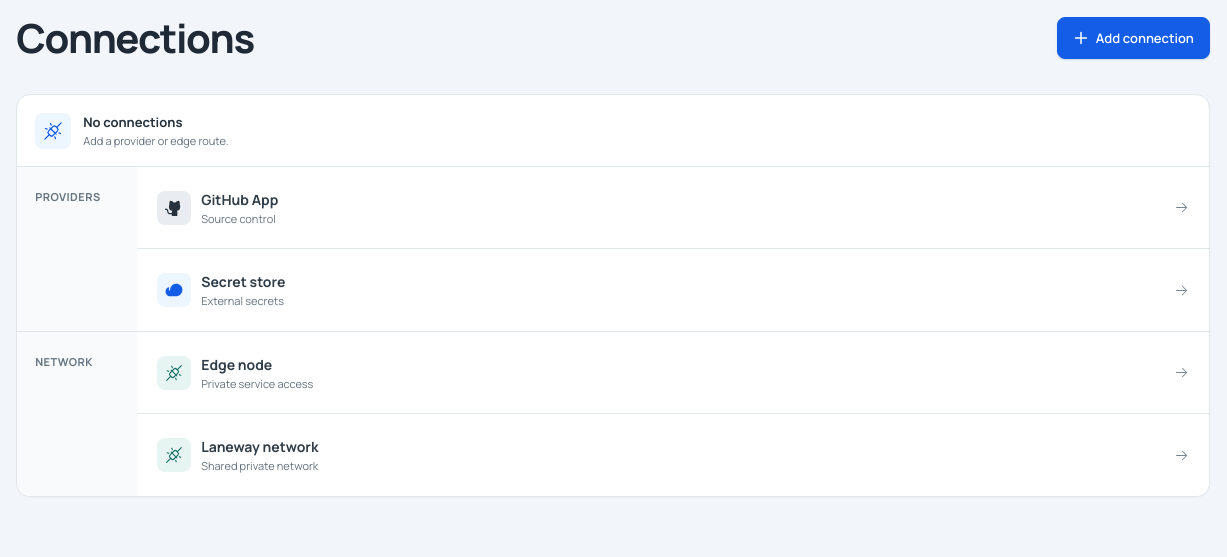
Test case: connections page › opens edge-node deployment from the network group
Step 1. Click the button "Edge node Private service access" → (174, 372), box x1=137 y1=332 x2=1209 y2=414
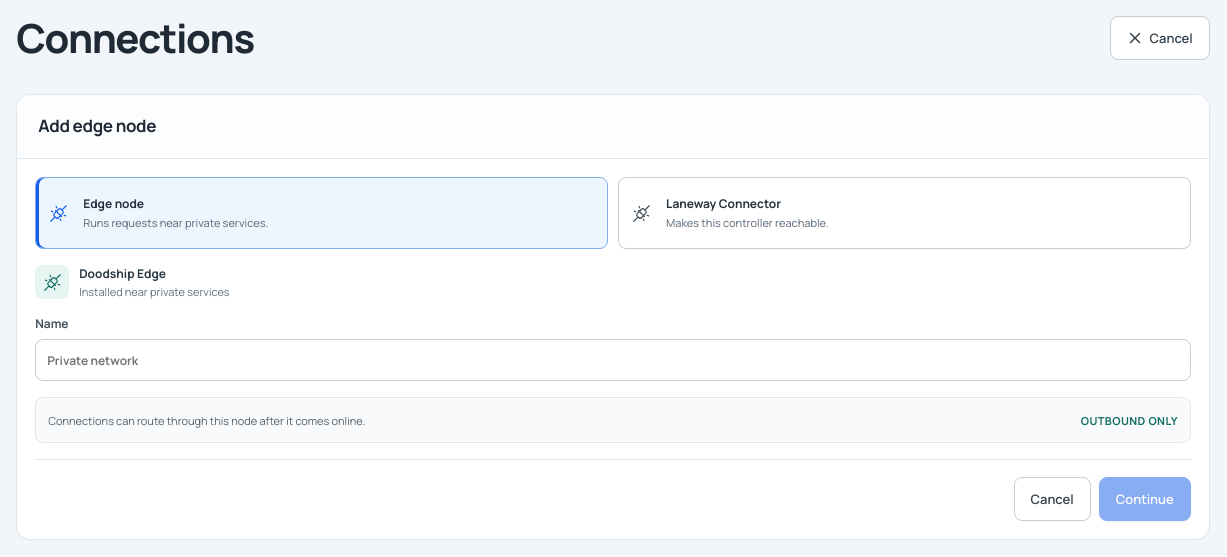
expect the heading "Add edge node" is shown: met, box x1=38 y1=114 x2=156 y2=137
expect the field labelled "Name" is shown: met, box x1=35 y1=339 x2=1191 y2=381
expect the text "Outbound only" is shown: met, box x1=1081 y1=412 x2=1178 y2=428
